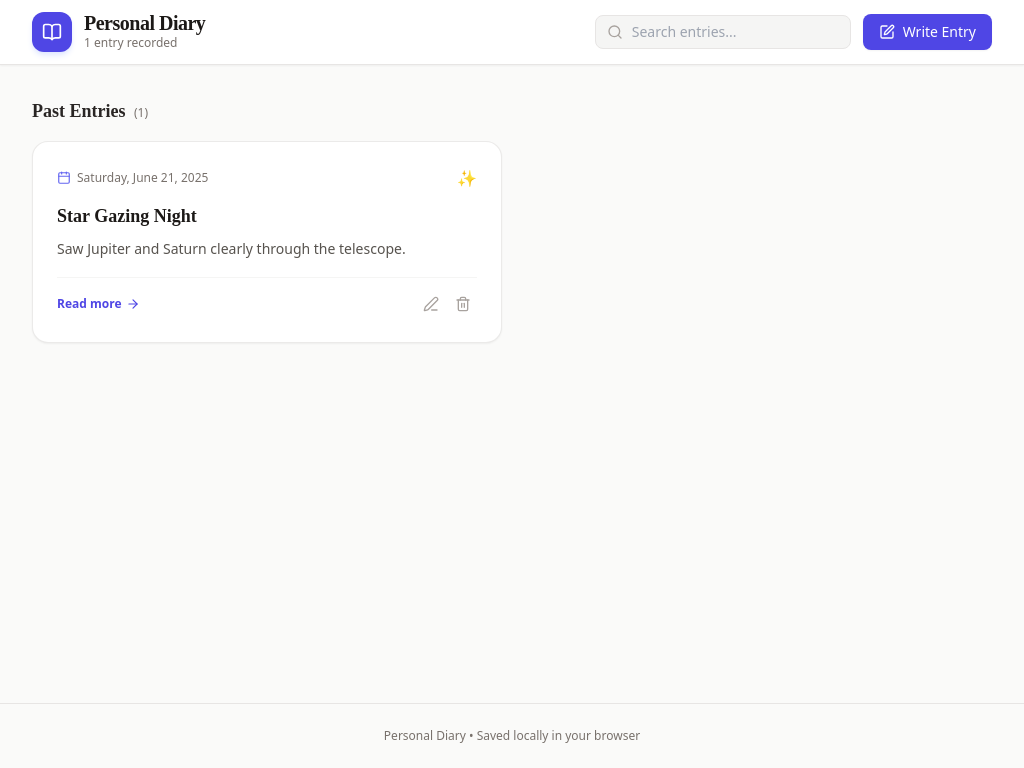
it: Personal Diary App › allows opening entry details by clicking entry title and closing with Escape key
The width and height of the screenshot is (1024, 768).
// Click title
Click the heading "Star Gazing Night". click: [127, 216]
box: left=57, top=206, right=197, bottom=226
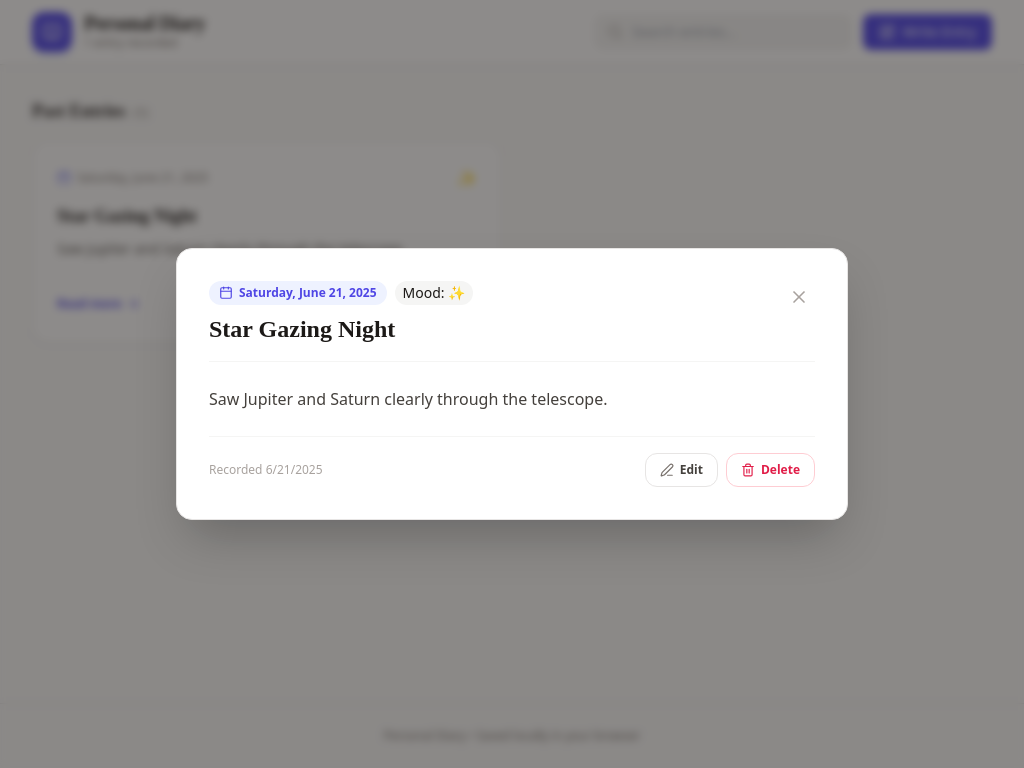
Now the dialog is shown
Now the text "Saw Jupiter and Saturn clearly through the telescope." is shown, box left=209, top=388, right=608, bottom=410
// Press Escape
Press Escape
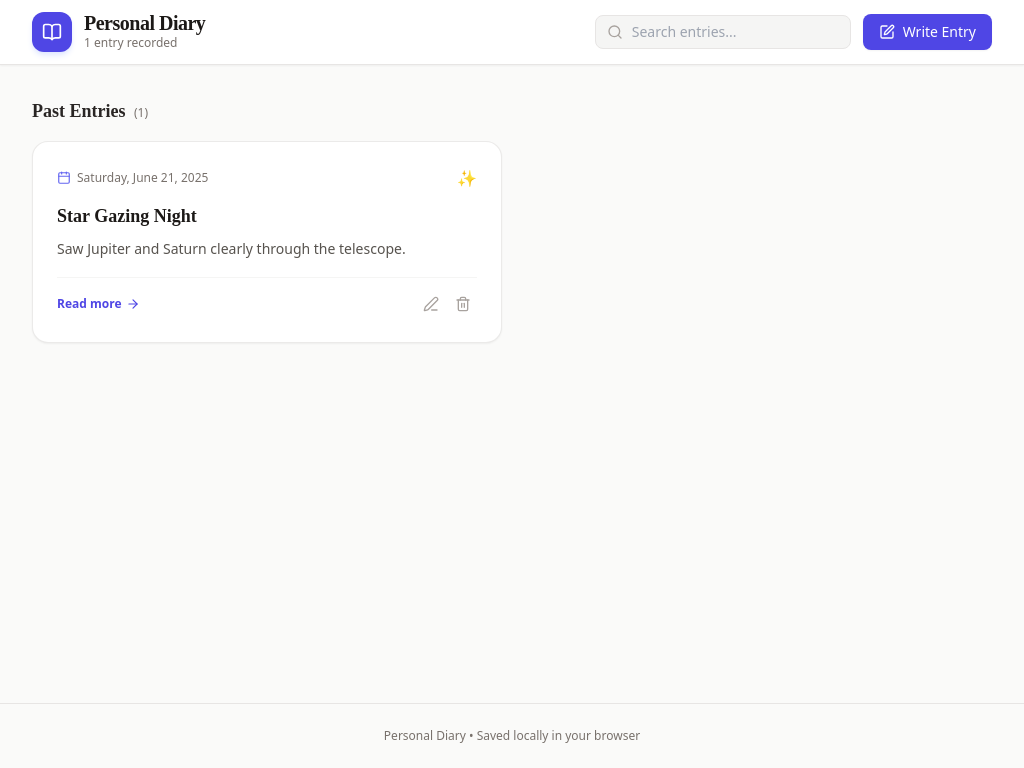
Now the dialog is gone
